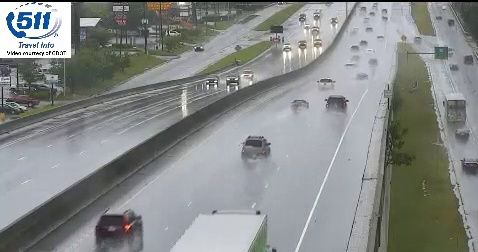car: (96, 209, 143, 240), (241, 136, 270, 160), (326, 94, 347, 112), (318, 78, 333, 89)
